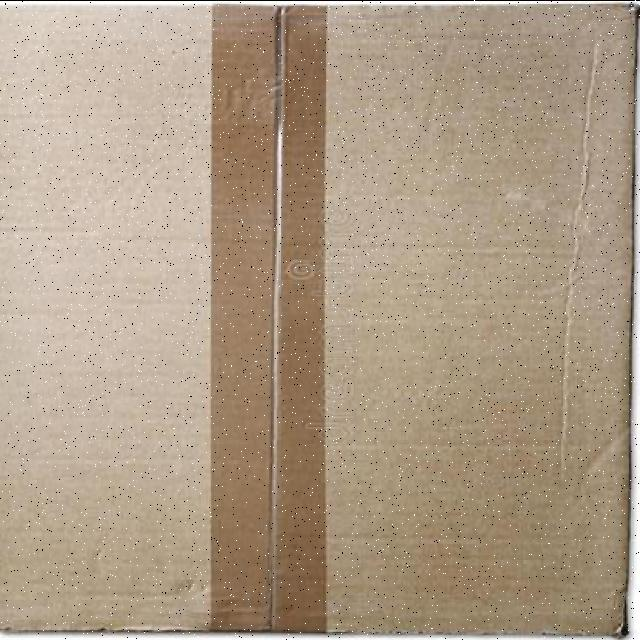normal: (1, 6, 577, 632)
